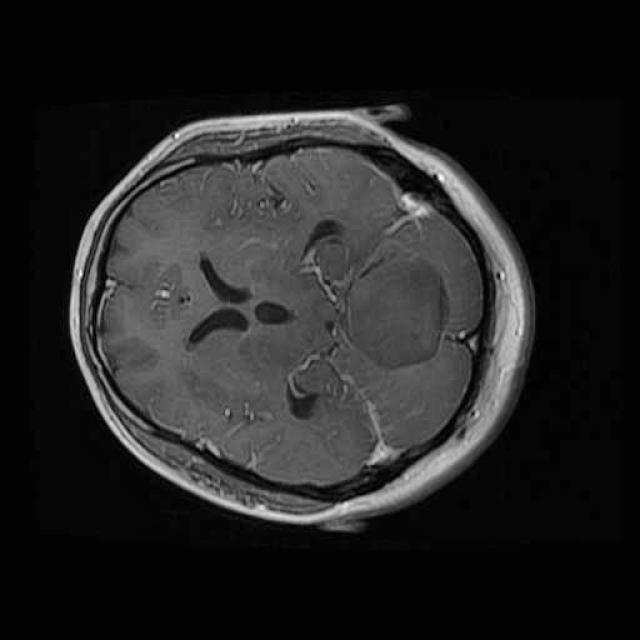Tumor: (335, 244, 457, 380)
